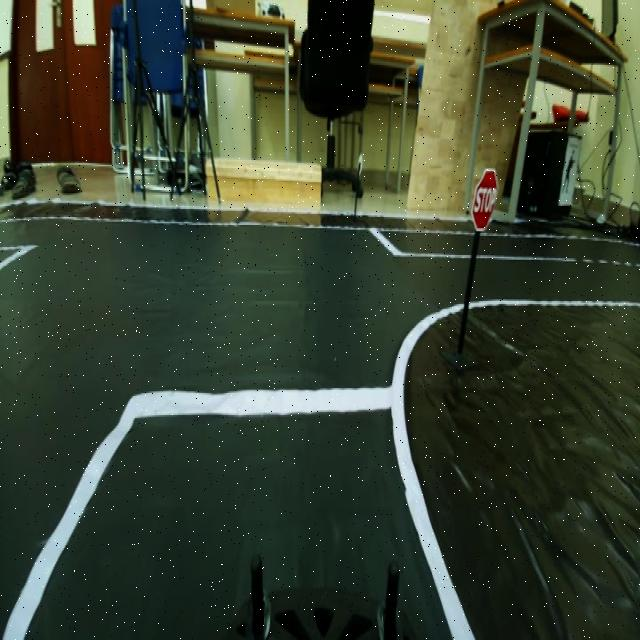stop: (469, 162, 504, 238)
